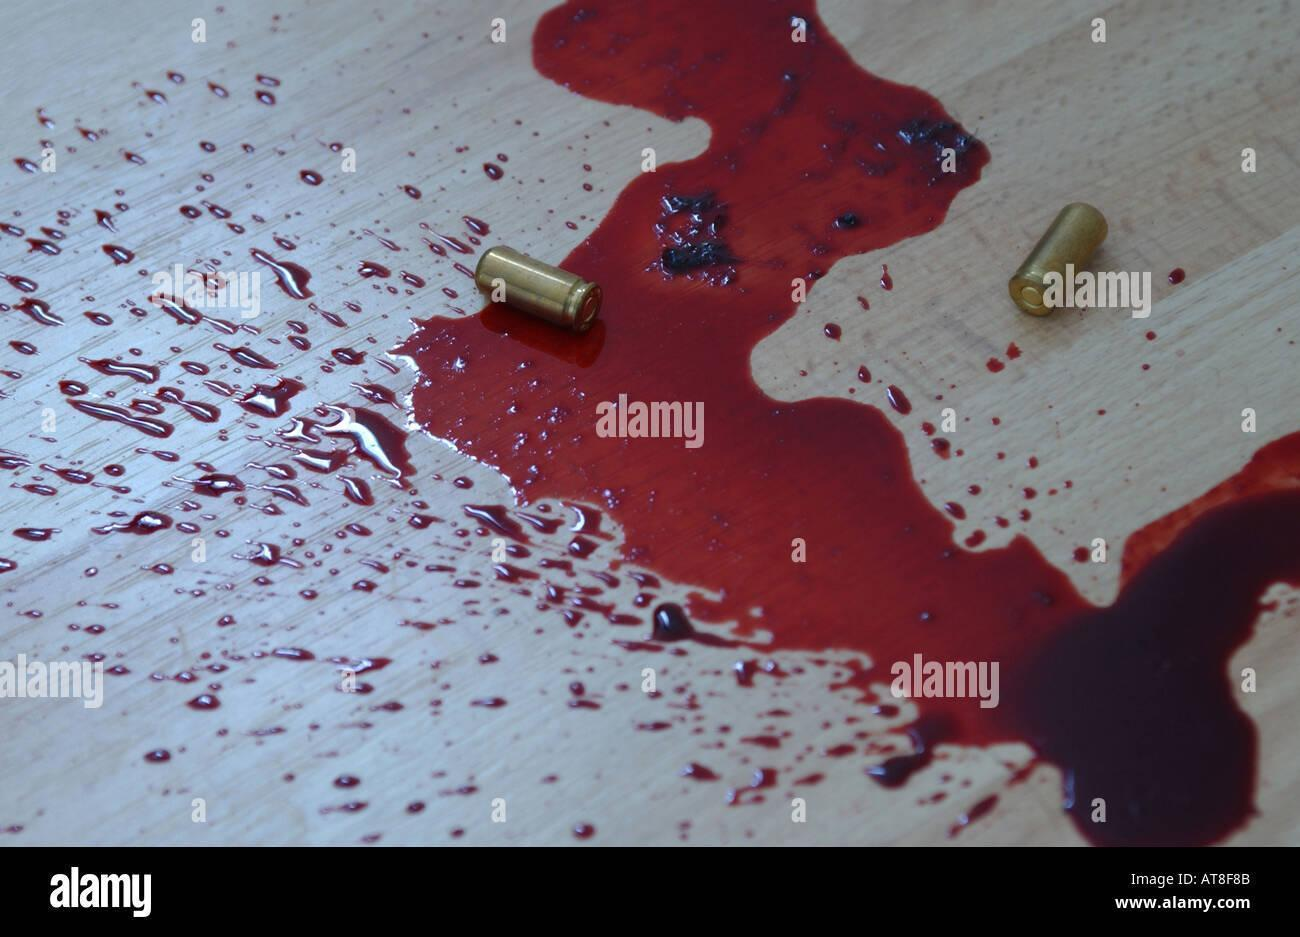Fire: (404, 2, 1300, 845), (281, 402, 415, 506), (161, 136, 285, 242), (462, 505, 565, 583), (91, 129, 162, 231), (57, 380, 172, 436), (651, 603, 741, 647), (247, 245, 313, 299), (195, 71, 281, 105), (235, 377, 304, 416), (569, 589, 640, 625), (126, 64, 186, 106), (246, 464, 306, 506), (173, 463, 247, 496), (185, 248, 244, 284), (80, 357, 159, 384), (156, 387, 219, 420), (568, 504, 605, 557), (91, 510, 172, 533), (214, 343, 274, 368), (243, 543, 301, 566), (11, 297, 60, 324), (12, 297, 61, 323), (158, 297, 204, 322), (24, 226, 63, 254), (407, 502, 444, 528), (101, 236, 138, 263), (40, 464, 91, 484), (71, 117, 108, 141), (355, 382, 393, 403), (0, 272, 35, 292), (12, 527, 55, 541), (19, 480, 55, 496), (0, 451, 27, 468), (65, 623, 103, 635), (14, 530, 49, 540), (0, 220, 23, 235), (8, 341, 35, 353), (15, 609, 42, 620), (0, 557, 16, 574), (0, 302, 10, 311)
